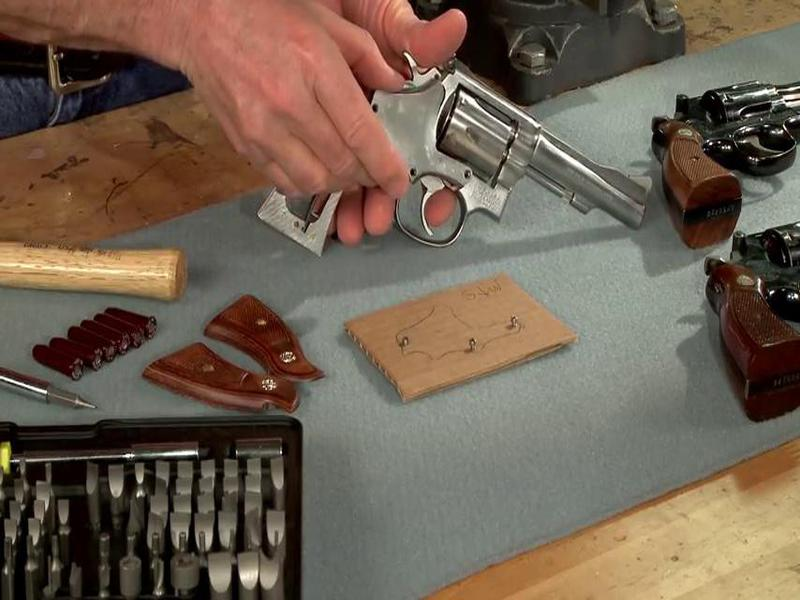Revolver: (255, 36, 661, 307)
